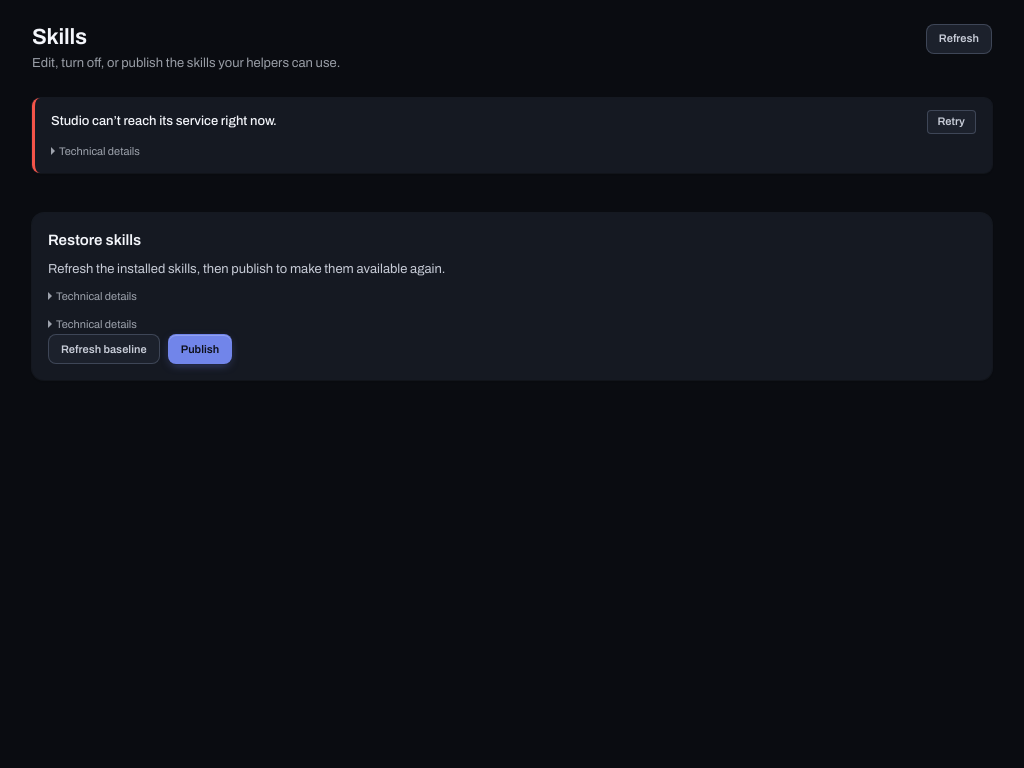
Test case: Refresh baseline — staged, not published (F-A45-002) › renders the refresh result INLINE ("garden 12.33.0 staged … publish to activate"), re-reads the ENGINE line, and does NOT re-GET the 503 catalog
Expected: the message "Studio can’t reach its service right now. Retry Technical details" is shown, [32,98,992,173]
Expected: the element with test id "skills-recovery-state" is shown, [56,290,137,302]
Click the button with test id "skills-recover-refresh": {"x": 104, "y": 349} [48,334,160,364]
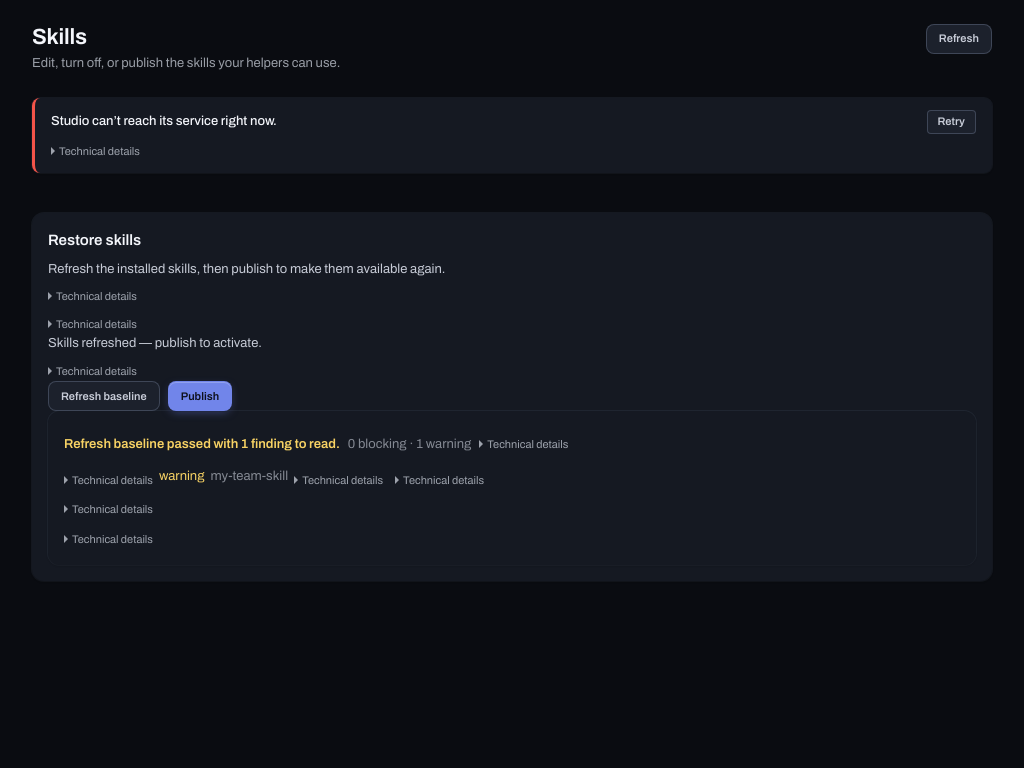
Expected: the message "Studio can’t reach its service right now. Retry Technical details" is shown, [32,98,992,173]
Result: the element with test id "skills-recovery-staged" shows "Skills refreshed — publish to activate." at [48,336,262,350]
